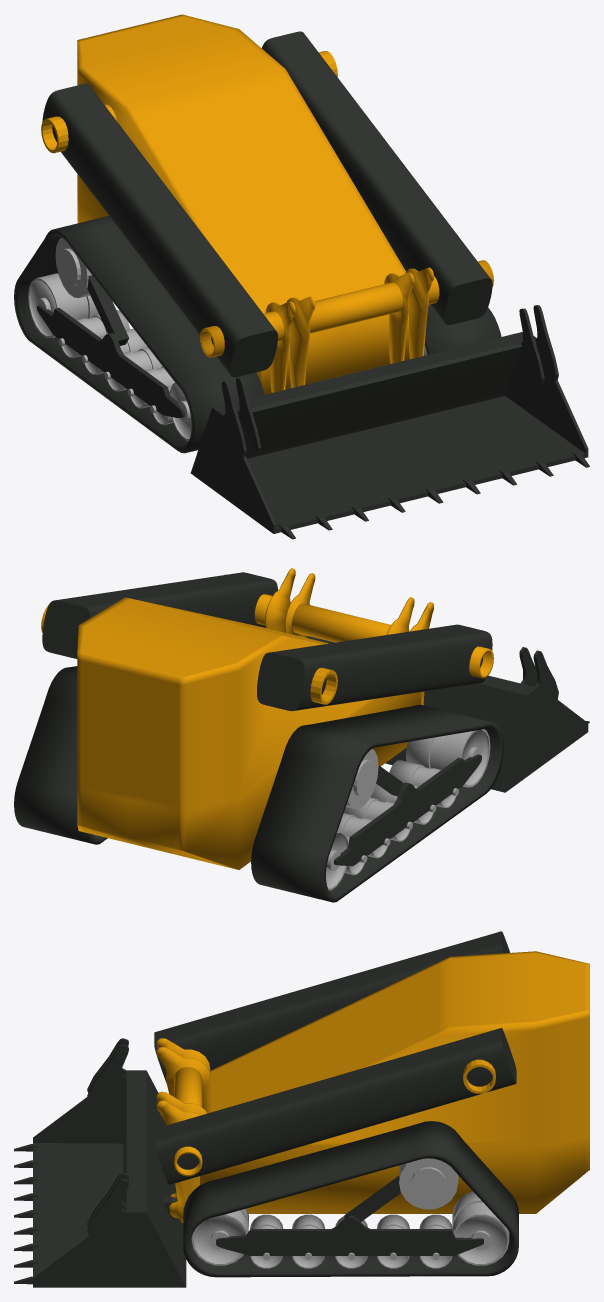
The model's file is loader.glb.
3 views of the same model, one above another, from view 1: azimuth 30°, elevation 25°; view 2: azimuth 150°, elevation 25°; view 3: azimuth 270°, elevation 25° (orthographic). The views are drawn at different scales.
Visible parts, largest first — view 1: Base, pivot3, pivot1, Circle, pivot2, WheelBracket, SlaveWheel2L, DriveWheelL, Brace, Cylinder.001, MinorWheel3L, SlaveWheel1L (+1 smaller); view 2: Base, Circle, pivot1, pivot3, pivot2, WheelBracket, SlaveWheel1L, DriveWheelL, MinorWheel1L, Cylinder.001, SlaveWheel2L, MinorWheel3L (+3 smaller); view 3: Base, pivot1, pivot3, Circle, WheelBracket, pivot2, SlaveWheel2L, DriveWheelL, SlaveWheel1L, Brace, MinorWheel5L, MinorWheel1L (+3 smaller).
Boxes of the visible parts, left/top/right/bottom form: Base: left=77, top=14, right=409, bottom=394; pivot3: left=190, top=305, right=589, bottom=539; pivot1: left=42, top=31, right=492, bottom=377; Circle: left=14, top=216, right=501, bottom=453; pivot2: left=200, top=260, right=493, bottom=392; WheelBracket: left=37, top=305, right=184, bottom=417; SlaveWheel2L: left=28, top=273, right=98, bottom=338; DriveWheelL: left=55, top=237, right=91, bottom=297; Brace: left=87, top=275, right=128, bottom=345; Cylinder.001: left=41, top=51, right=337, bottom=153; MinorWheel3L: left=104, top=347, right=162, bottom=391; SlaveWheel1L: left=169, top=346, right=427, bottom=440; Base: left=77, top=597, right=420, bottom=869; Circle: left=14, top=666, right=503, bottom=902; pivot1: left=42, top=572, right=492, bottom=711; pivot3: left=225, top=574, right=589, bottom=792; pivot2: left=254, top=568, right=493, bottom=705; WheelBracket: left=334, top=754, right=481, bottom=866; SlaveWheel1L: left=406, top=729, right=490, bottom=787; DriveWheelL: left=346, top=749, right=378, bottom=808; MinorWheel1L: left=389, top=760, right=458, bottom=808; Cylinder.001: left=41, top=604, right=337, bottom=704; SlaveWheel2L: left=326, top=830, right=348, bottom=890; MinorWheel3L: left=343, top=797, right=412, bottom=841; Base: left=200, top=951, right=589, bottom=1213; pivot1: left=154, top=931, right=516, bottom=1184; pivot3: left=14, top=1038, right=186, bottom=1287; Circle: left=183, top=1121, right=518, bottom=1277; WheelBracket: left=216, top=1216, right=483, bottom=1255; pivot2: left=156, top=1038, right=210, bottom=1222; SlaveWheel2L: left=452, top=1191, right=509, bottom=1265; DriveWheelL: left=399, top=1158, right=458, bottom=1209; SlaveWheel1L: left=191, top=1208, right=248, bottom=1265; Brace: left=344, top=1176, right=400, bottom=1221; MinorWheel5L: left=419, top=1214, right=452, bottom=1268; MinorWheel1L: left=250, top=1214, right=283, bottom=1268.
Size of the model in its own units: 2.65 by 2.01 by 4.55.
